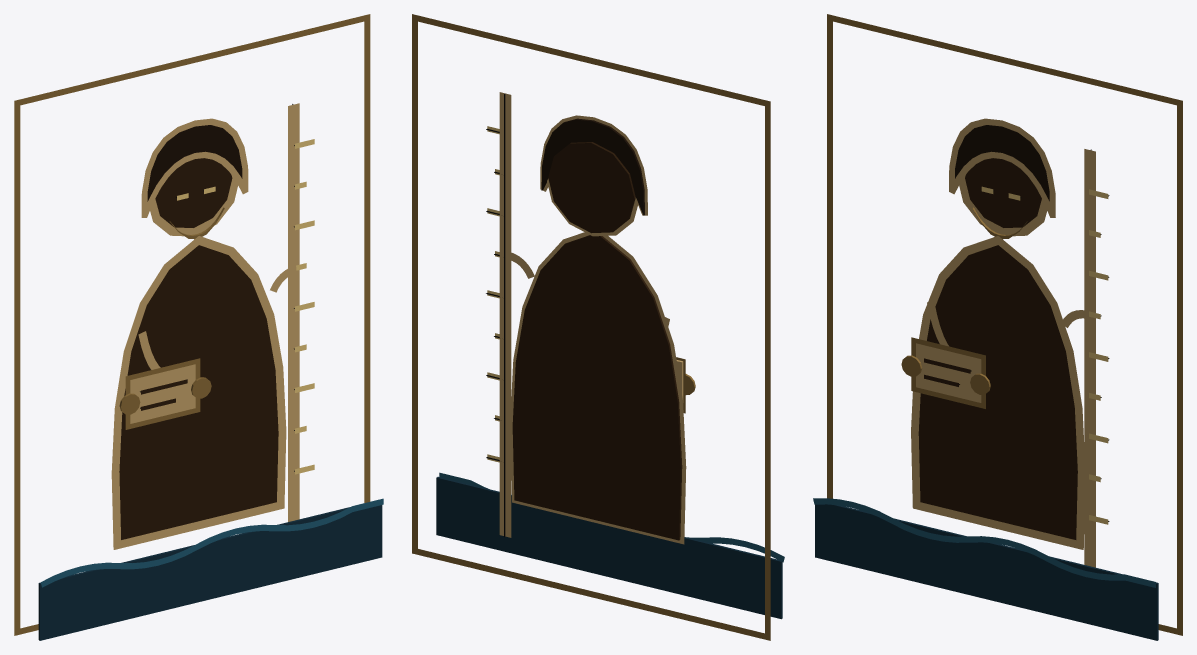
The model's file is npc-monakh-nablyudatel.glb.
3 renders of one model, left to right at view 1: azimuth 30°, elevation 25°; view 2: azimuth 150°, elevation 25°; view 3: azimuth 330°, elevation 25°, orthographic.
Visible parts, largest first — view 1: npc-monakh-nablyudatel; view 2: npc-monakh-nablyudatel; view 3: npc-monakh-nablyudatel.
Boxes of the visible parts, x1=… form: npc-monakh-nablyudatel: x1=14, y1=14, x2=383, y2=640; npc-monakh-nablyudatel: x1=412, y1=14, x2=784, y2=640; npc-monakh-nablyudatel: x1=813, y1=14, x2=1182, y2=640.
Bounding box in the file's own units: 1.14 × 1.64 × 0.1129.
